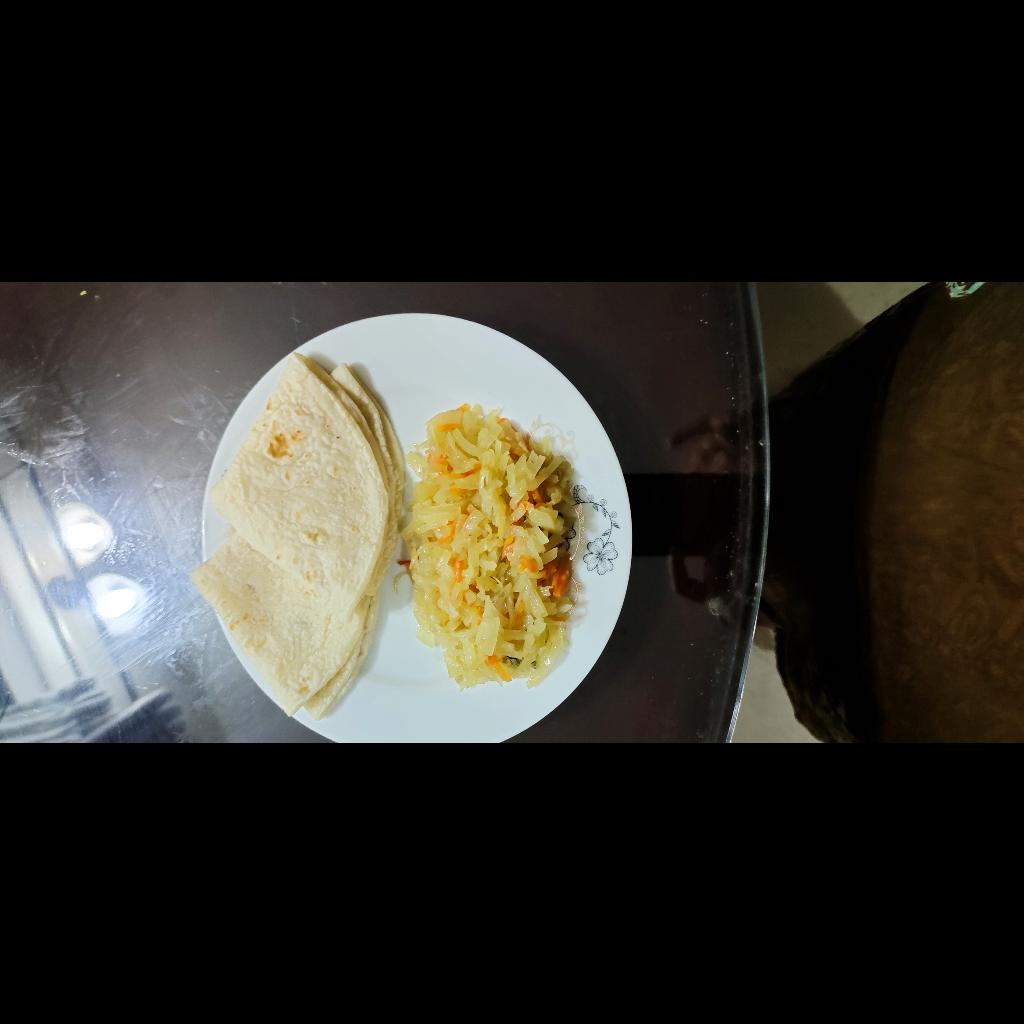ruti: (24, 465, 390, 687)
vegetable: (55, 681, 341, 858)
